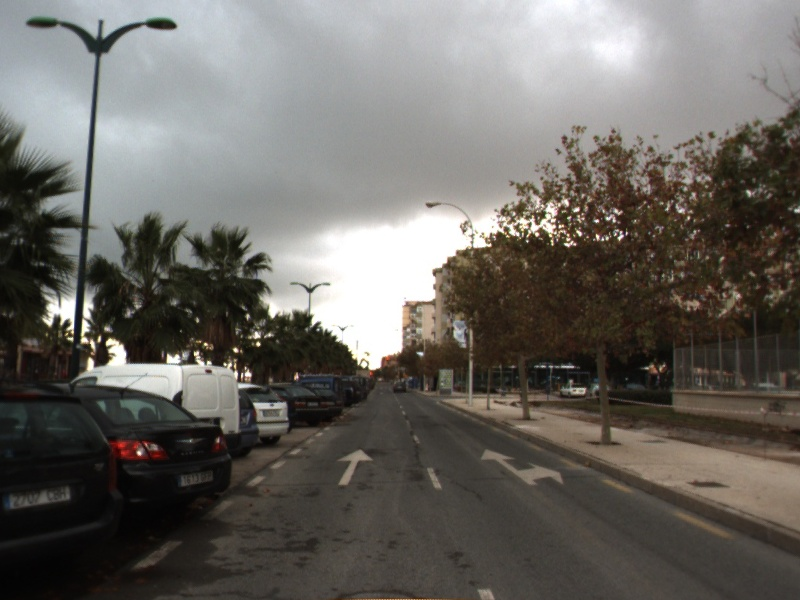STRAIGHT: (335, 447, 376, 487)
STRAIGHT_RIGHT: (479, 447, 566, 487)
